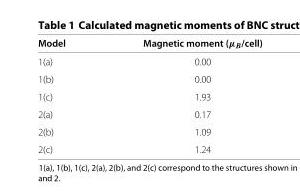table: (37, 36, 261, 154)
table column: (103, 36, 261, 154), (37, 36, 103, 154)
table column header: (37, 36, 261, 53)
table row: (37, 69, 261, 87), (37, 87, 261, 105), (37, 122, 261, 140), (37, 36, 261, 53), (37, 105, 261, 122), (37, 53, 261, 69), (37, 140, 261, 154)
